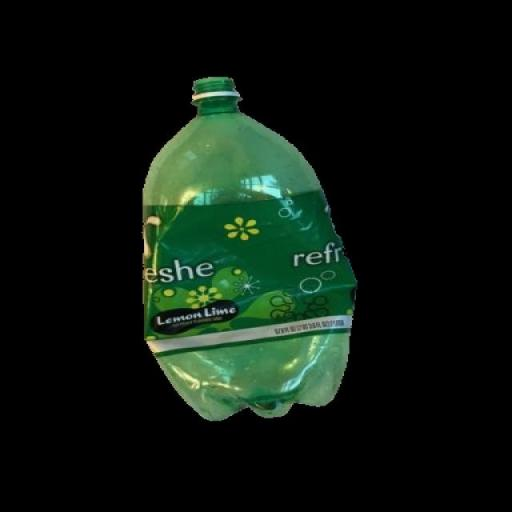plastic: (142, 72, 360, 424)
